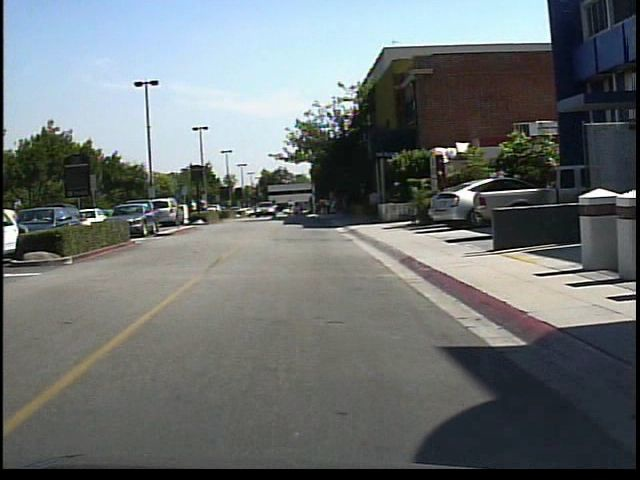person: (186, 193, 203, 222), (285, 196, 300, 223)
